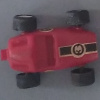rojo: (3, 11, 97, 87)
